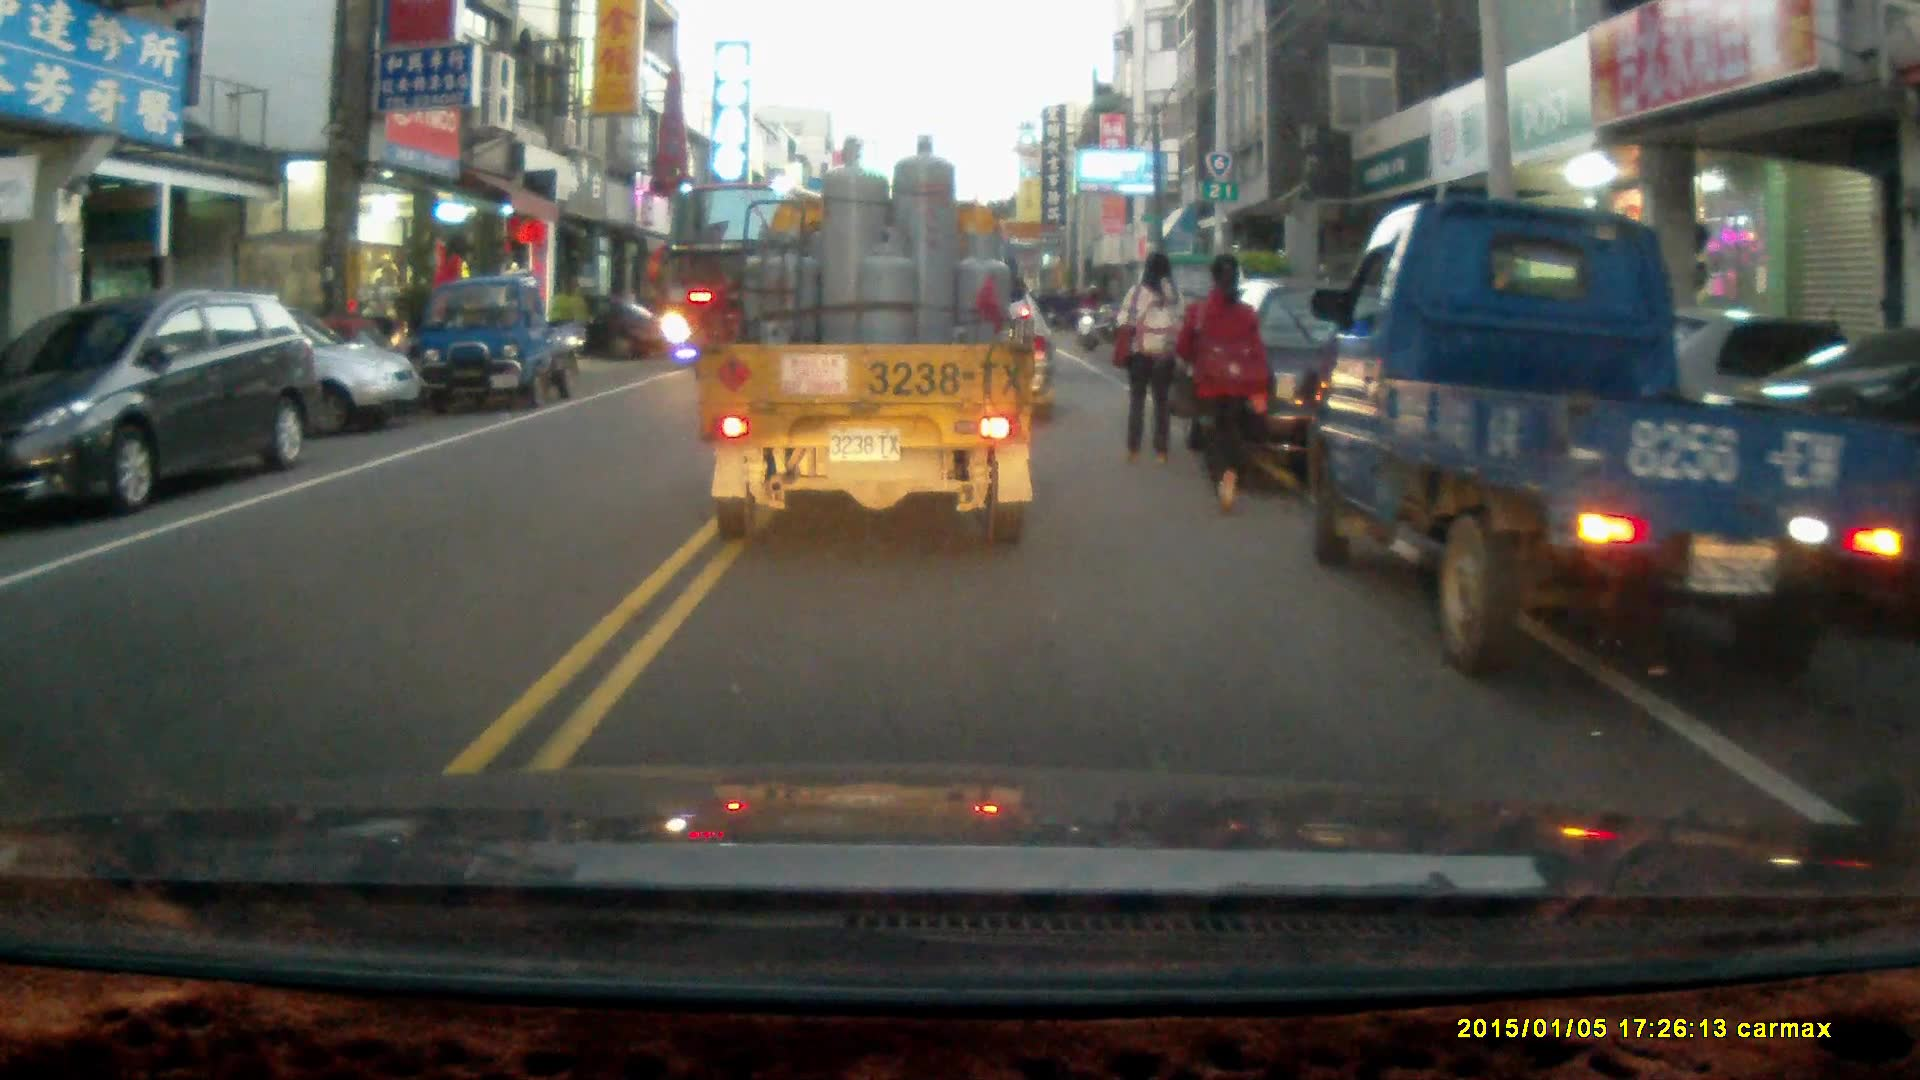pedestrian: (1171, 251, 1273, 513), (1108, 250, 1183, 470)
rider: (1073, 279, 1107, 349)
vehicle: (1310, 190, 1920, 693), (694, 127, 1040, 546), (4, 286, 318, 521), (1189, 276, 1465, 494), (110, 298, 427, 440), (656, 178, 882, 370), (418, 275, 578, 410)
